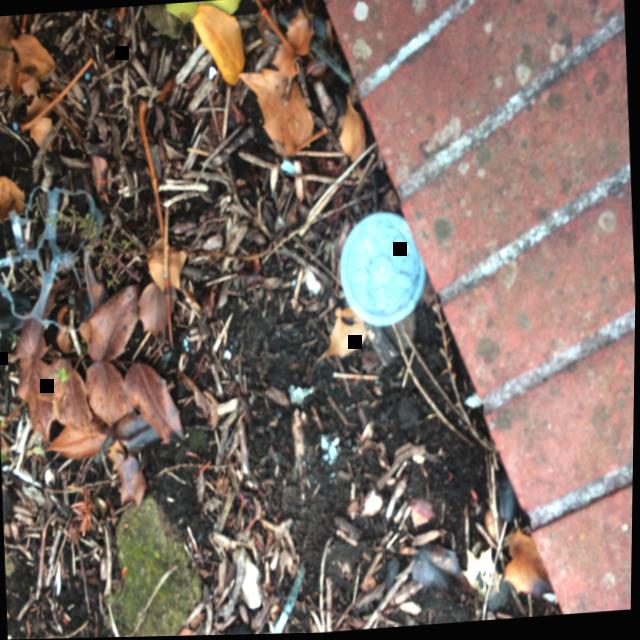Plastic lid: (341, 214, 425, 328)
Six pack rings: (0, 186, 102, 333)
